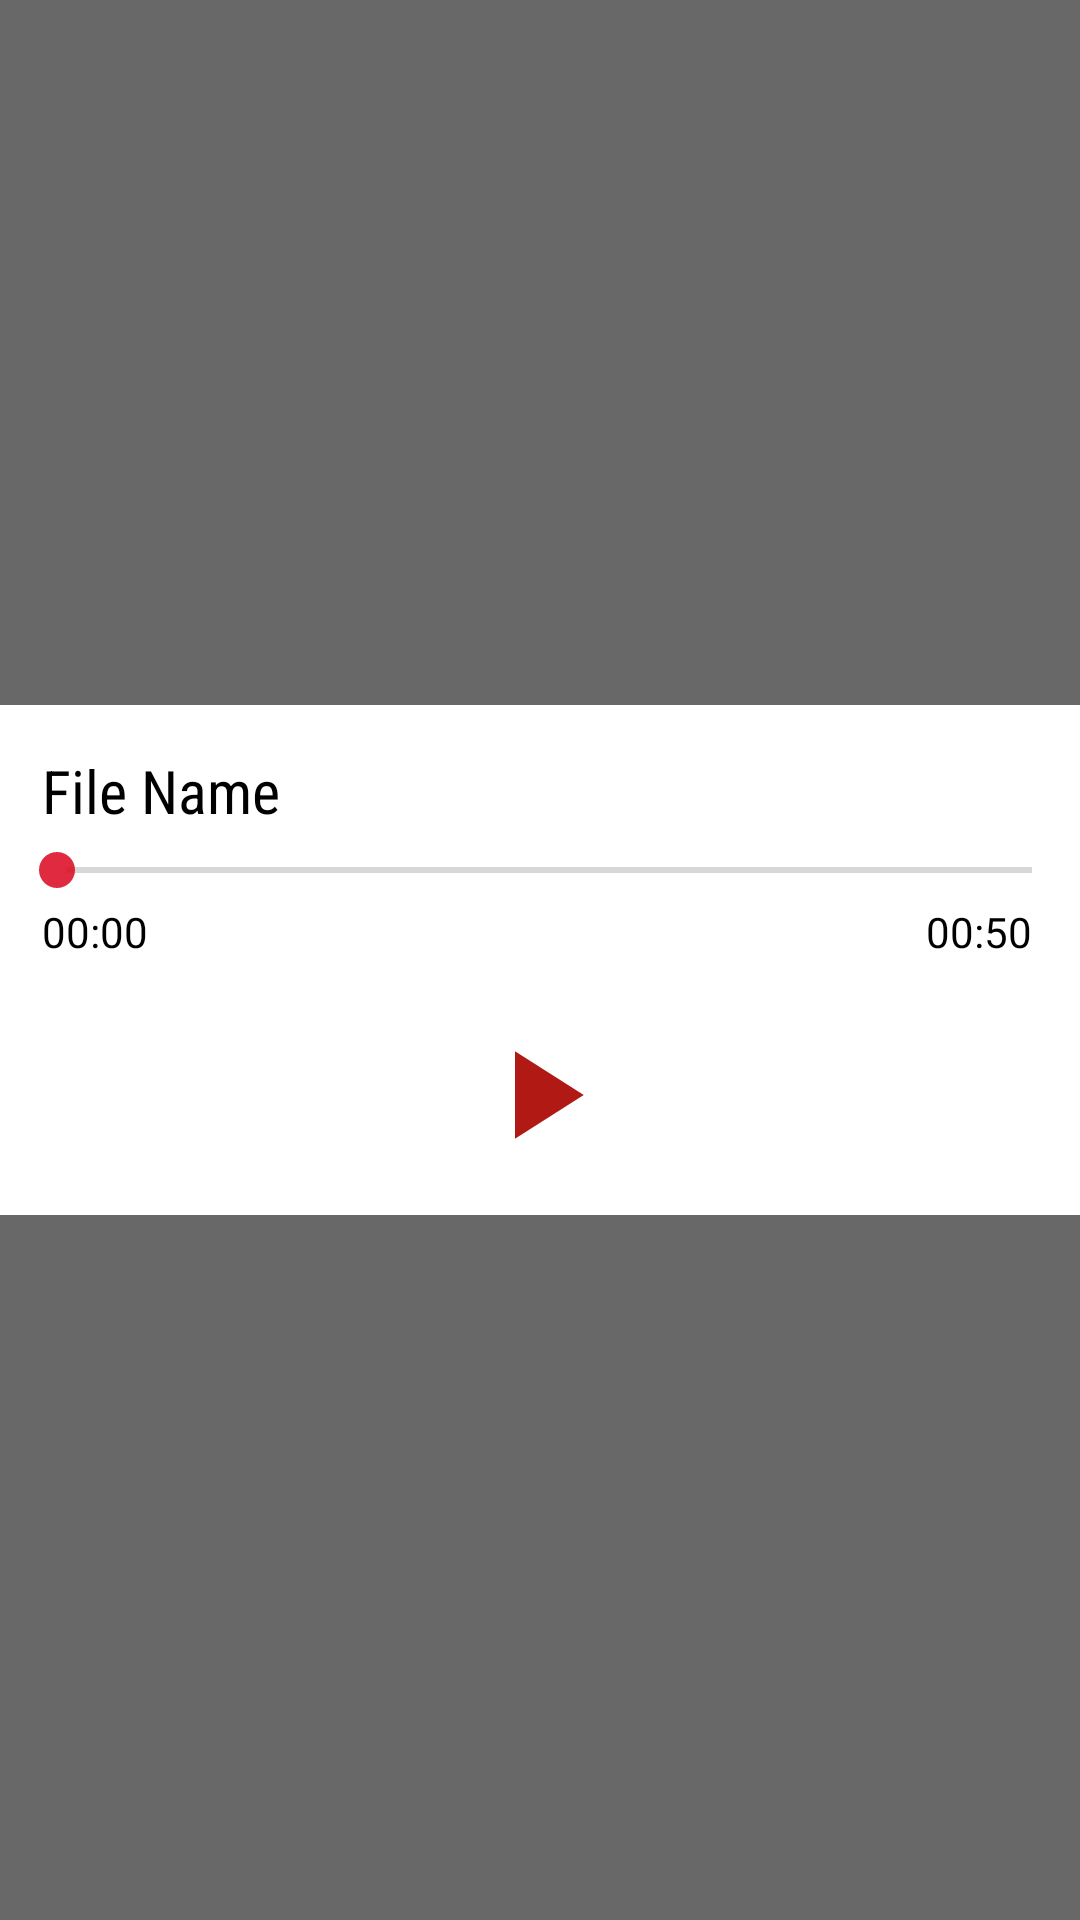

Screen size 1080 x 1920. Icon name, then its center in pixels as point (x, y):
play: point (549, 1095)
